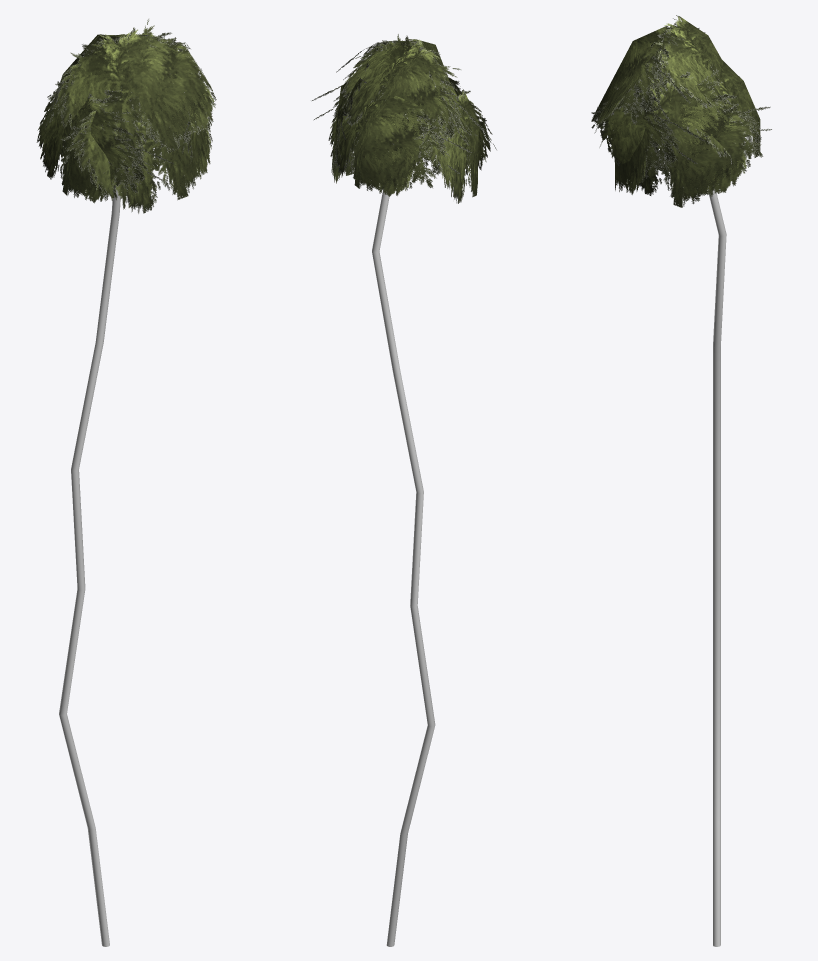
The model's file is Tree_150m.fbx.
3 renders of one model, left to right at view 1: azimuth 30°, elevation 25°; view 2: azimuth 150°, elevation 25°; view 3: azimuth 270°, elevation 25°, orthographic. The views are drawn at different scales.
Parts seen in each view (by area): view 1: Tree_150m; view 2: Tree_150m; view 3: Tree_150m.
Part boxes in pixels (x1,y1,x2,y2): Tree_150m: (36,19,216,946); Tree_150m: (312,34,496,946); Tree_150m: (591,15,771,946).
Bounding box in the file's own units: 44.01 × 166 × 39.67.
